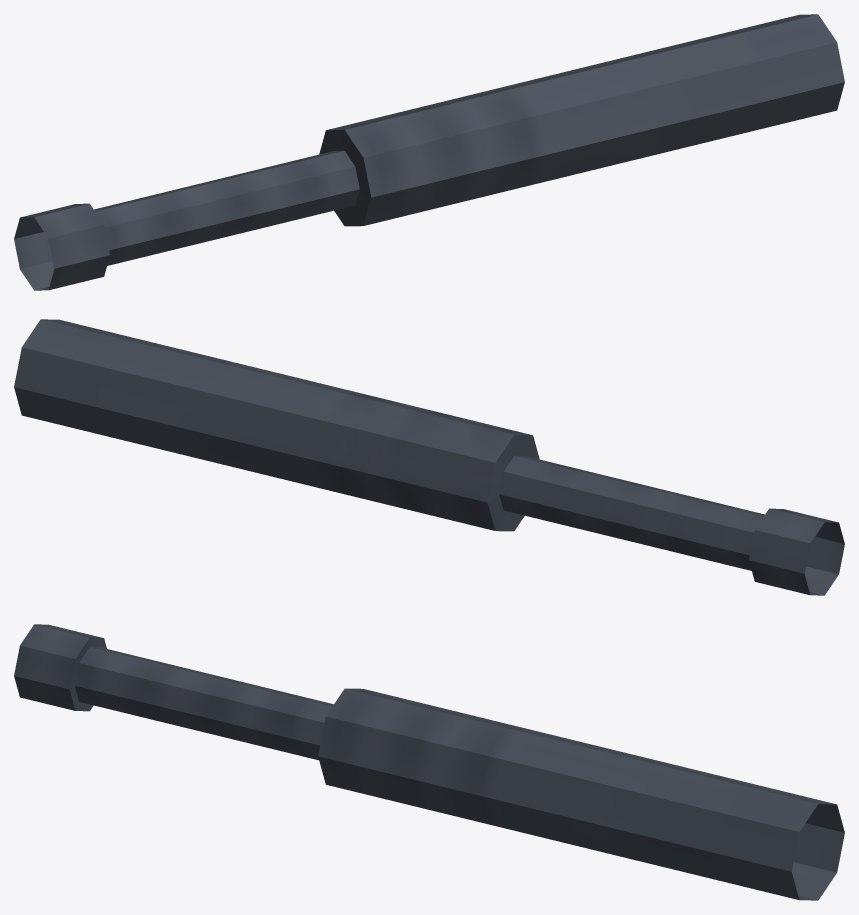
File: Enemy_Ship_3_Piece_4.fbx
The picture shows the model from 3 angles, top to bottom: view 1: azimuth 30°, elevation 25°; view 2: azimuth 150°, elevation 25°; view 3: azimuth 330°, elevation 25°; orthographic projection.
Visible parts, largest first — view 1: Enemy_Ship_3_Piece_3; view 2: Enemy_Ship_3_Piece_3; view 3: Enemy_Ship_3_Piece_3.
Part boxes in pixels (box(x1,y1,x2,y2)): Enemy_Ship_3_Piece_3: box(14, 14, 844, 290); Enemy_Ship_3_Piece_3: box(14, 319, 844, 595); Enemy_Ship_3_Piece_3: box(14, 624, 844, 900).
Bounding box in the file's own units: 37.65 × 4.43 × 4.43.
